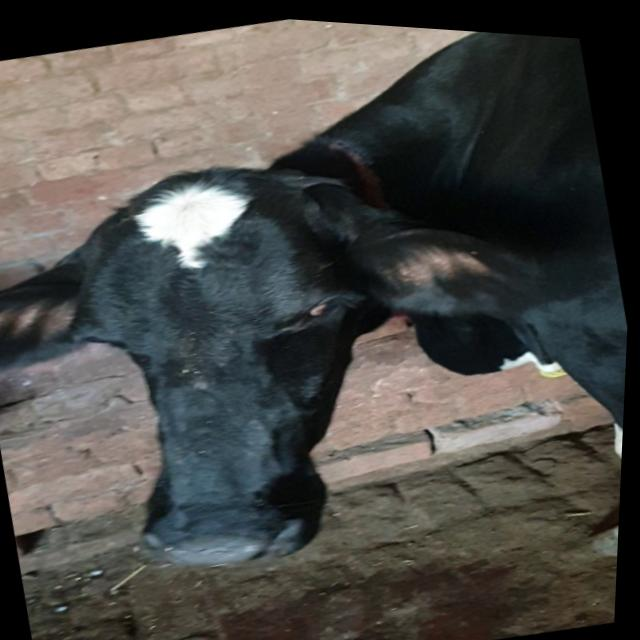cowFace: (41, 104, 446, 597)
